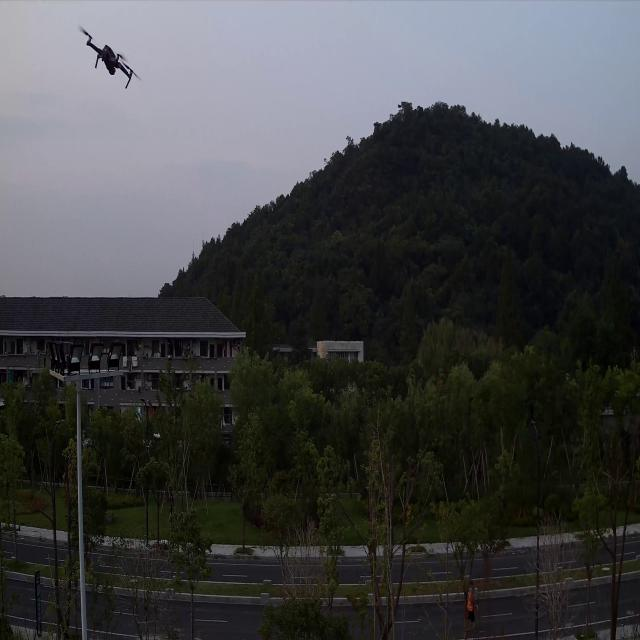UAV: (77, 23, 143, 90)
